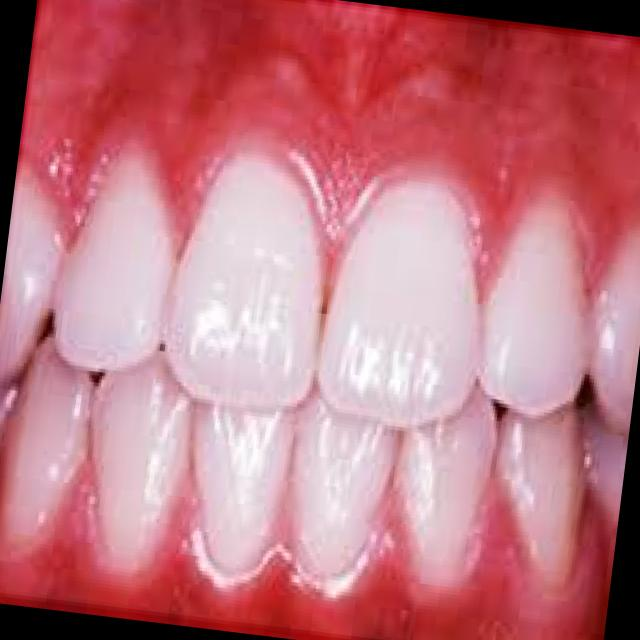Tooth: (162, 140, 329, 413), (318, 175, 481, 427), (475, 193, 590, 423), (56, 147, 169, 375), (89, 350, 195, 569), (288, 397, 400, 581), (394, 382, 499, 578), (0, 337, 97, 542), (194, 406, 298, 576), (499, 402, 586, 593)
